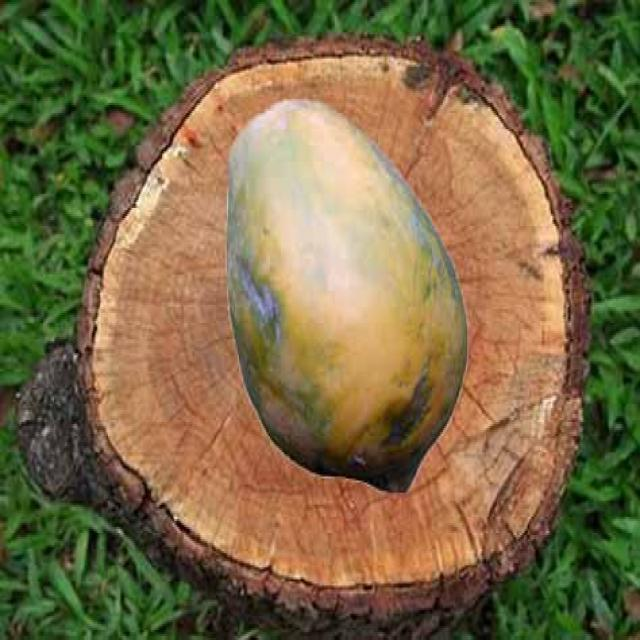Pepaya rippen: (216, 93, 471, 513)
